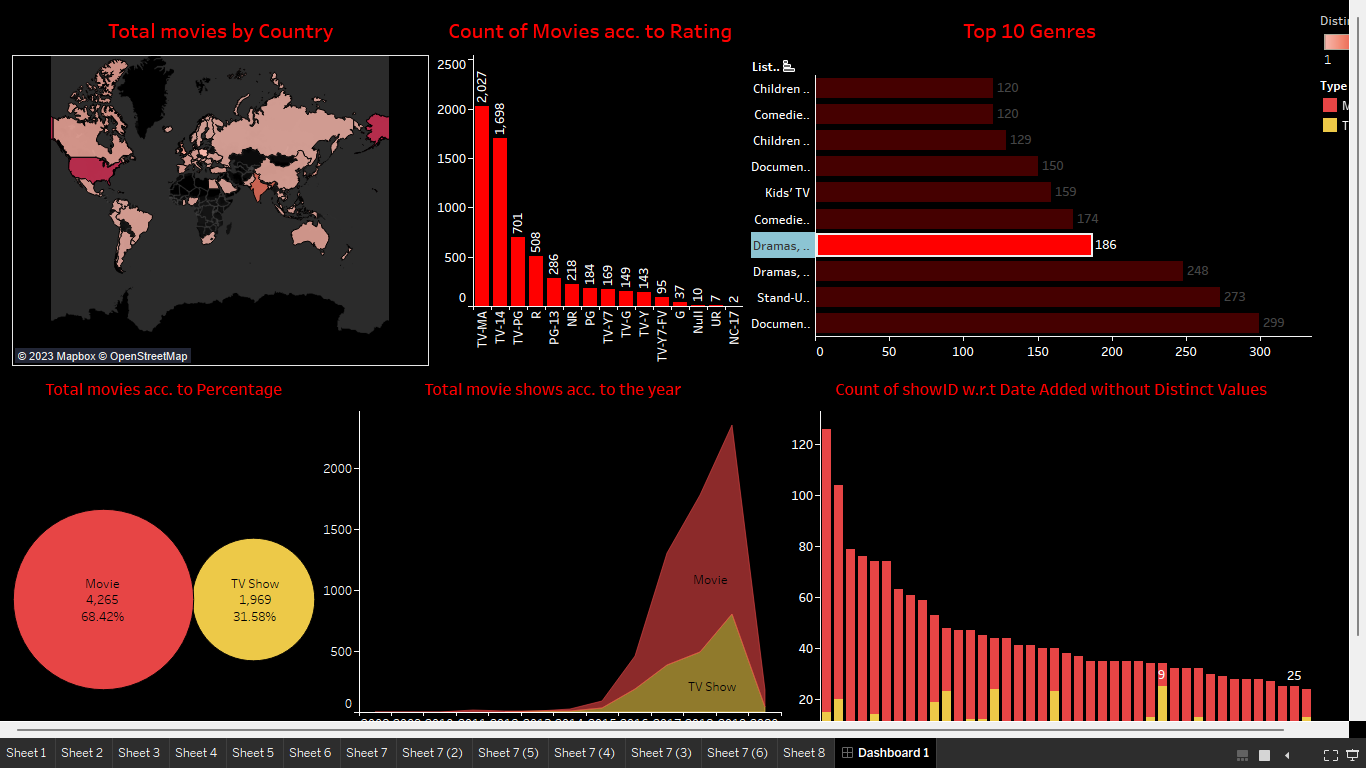

Layout of this report page (visuals, bound fields, positions):
{"tool":"tableau","page":{"name":"Dashboard 1","canvas":[1400,800],"ordinal":0},"visuals":[{"type":"worksheet","title":"Sheet 3","mark":"Multipolygon","box":[8,8,424.9,362]},{"type":"worksheet","title":"Sheet 6","mark":"Automatic","rows":["show_id"],"cols":["rating"],"box":[432.9,8,314.2,362]},{"type":"worksheet","title":"Sheet 4","mark":"Automatic","rows":["listed_in"],"cols":["show_id"],"box":[747,8,569,362]},{"type":"legend","title":"Sheet 3","param":"[federated.0gwft8g0wzm6mx1g8rwnv09i1jn4].[ctd:show_id:qk]","box":[1316,8,76,65]},{"type":"legend","title":"Sheet 1","param":"[federated.0gwft8g0wzm6mx1g8rwnv09i1jn4].[none:type:nk]","box":[1316,73,76,66]},{"type":"worksheet","title":"Sheet 5","mark":"Circle","box":[8,370,311.1,422]},{"type":"worksheet","title":"Sheet 2","mark":"Area","rows":["show_id"],"cols":["date_added"],"box":[319.1,370,467.3,422]},{"type":"worksheet","title":"Sheet 1","mark":"Automatic","rows":["show_id"],"cols":["date_added"],"box":[786.4,370,529.6,422]}]}

Visuals, with their boxes on the page's 1400x800 design canvas (x1, y1, x2, y2). These are canvas units, not pixel positions in the 1366x768 screenshot, which may show the page scaled, cropped or inside an application window:
"Sheet 3" worksheet (Multipolygon marks): {"left": 8, "top": 8, "right": 433, "bottom": 370}
"Sheet 6" worksheet: {"left": 433, "top": 8, "right": 747, "bottom": 370}
"Sheet 4" worksheet: {"left": 747, "top": 8, "right": 1316, "bottom": 370}
"Sheet 3" legend: {"left": 1316, "top": 8, "right": 1392, "bottom": 73}
"Sheet 1" legend: {"left": 1316, "top": 73, "right": 1392, "bottom": 139}
"Sheet 5" worksheet (Circle marks): {"left": 8, "top": 370, "right": 319, "bottom": 792}
"Sheet 2" worksheet (Area marks): {"left": 319, "top": 370, "right": 786, "bottom": 792}
"Sheet 1" worksheet: {"left": 786, "top": 370, "right": 1316, "bottom": 792}
